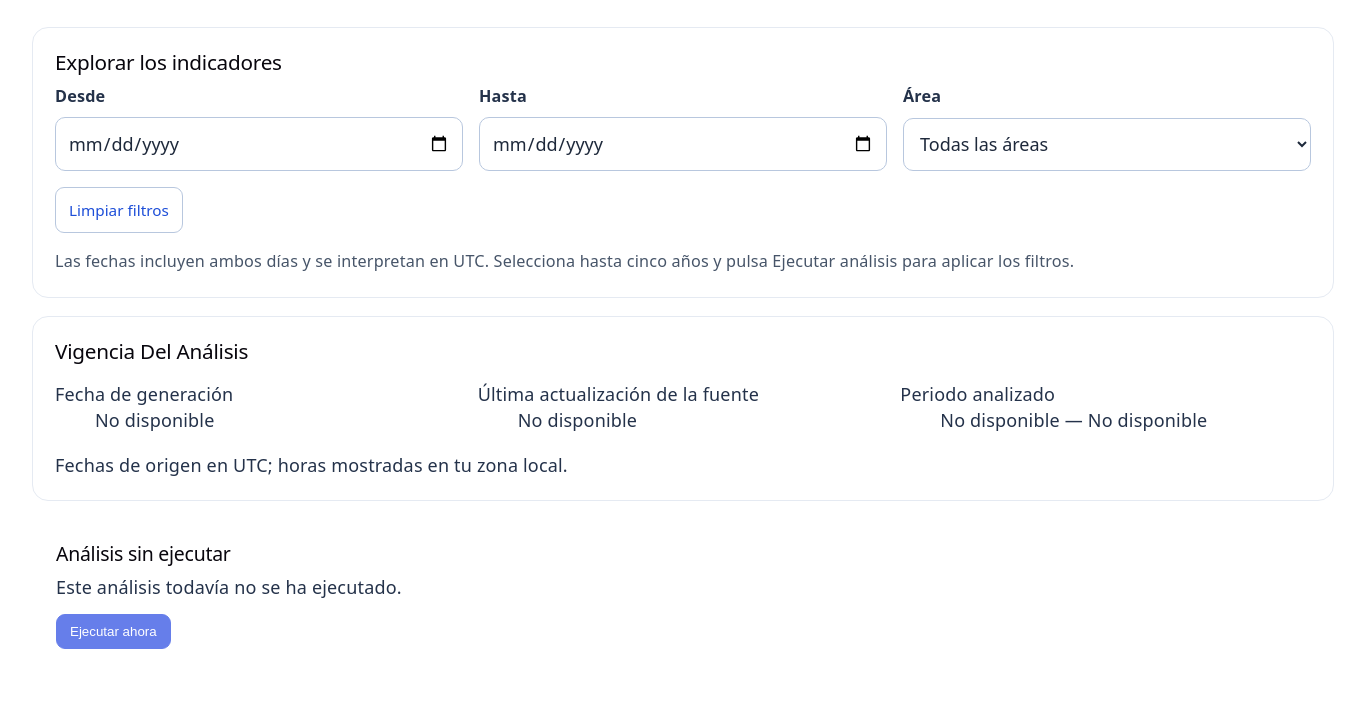
Test: PBL-04-T3 — estados y acciones visibles de Spark › sin ejecutar permite iniciar el trabajo y muestra procesamiento
(page scrolled)
Click the button "Ejecutar ahora": [113, 631] box [56, 614, 171, 649]
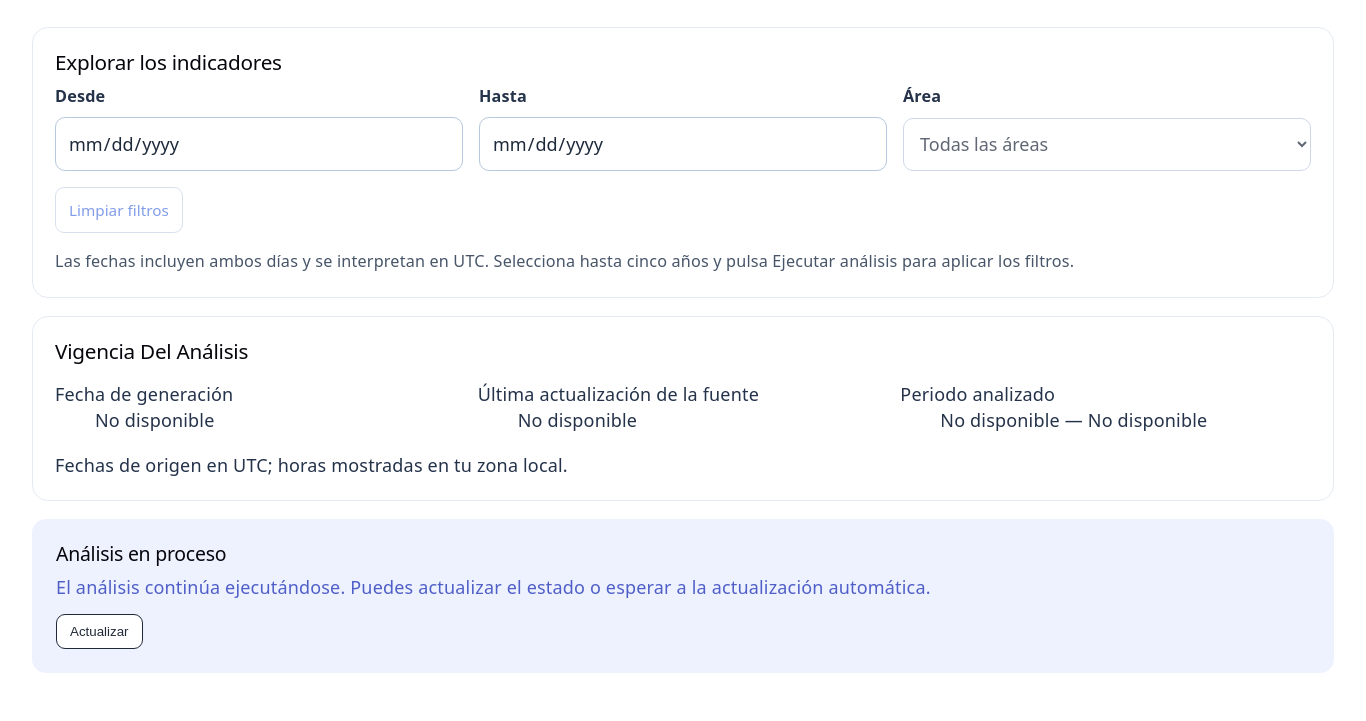
expect the text "actualizar" is shown: met, box [56, 574, 931, 598]
expect the text "Análisis en proceso" is shown: met, box [56, 540, 226, 567]
